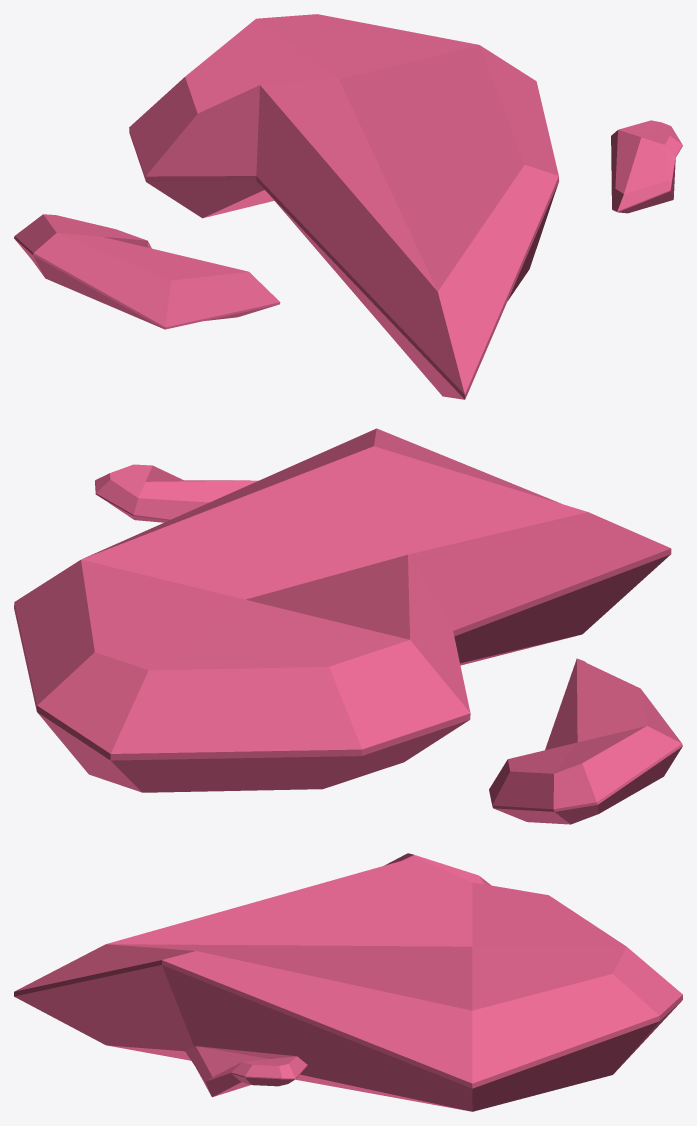
File: SweetEssence.fbx
3 renders of one model, top to bottom at view 1: azimuth 30°, elevation 25°; view 2: azimuth 150°, elevation 25°; view 3: azimuth 270°, elevation 25°, orthographic. The views are drawn at different scales.
Visible parts, largest first — view 1: Essence; view 2: Essence; view 3: Essence.
Part boxes in pixels (<box>): Essence: <box>14,14,682,399</box>; Essence: <box>14,428,682,824</box>; Essence: <box>14,853,682,1111</box>.
Size of the model in its own units: 292 by 95.04 by 318.
